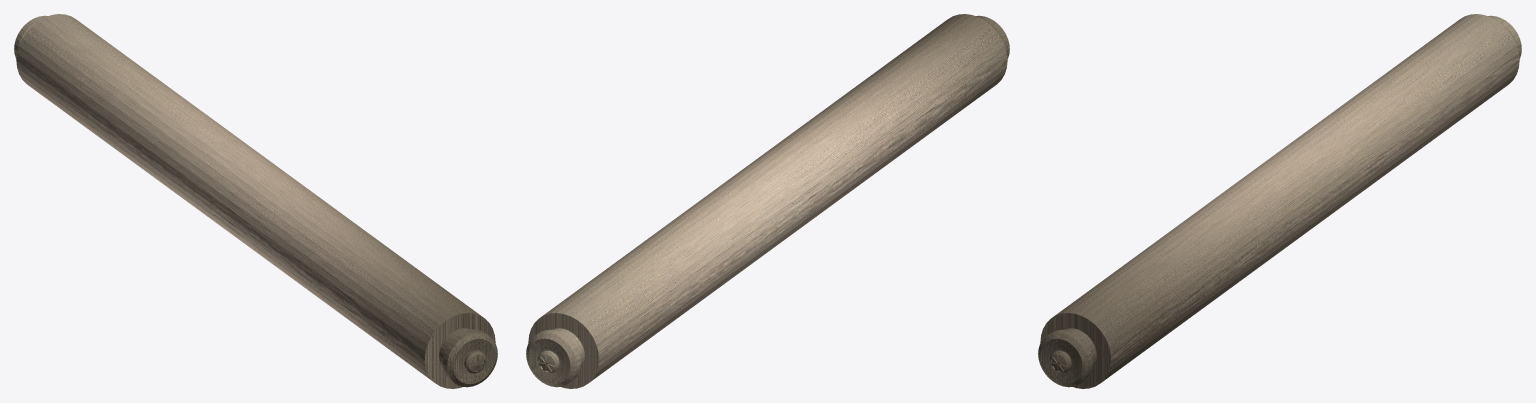
File: roller.glb
3 views of the same model, side by side, from view 1: azimuth 30°, elevation 25°; view 2: azimuth 150°, elevation 25°; view 3: azimuth 330°, elevation 25° (orthographic).
Visible parts, largest first — view 1: SingleRoller; view 2: SingleRoller; view 3: SingleRoller.
Boxes of the visible parts, x1=… form: SingleRoller: x1=14, y1=14, x2=497, y2=388; SingleRoller: x1=526, y1=14, x2=1009, y2=388; SingleRoller: x1=1038, y1=14, x2=1521, y2=388.
Size of the model in its own units: 0.2 by 0.2 by 2.17.
1 material, 1 textured.
